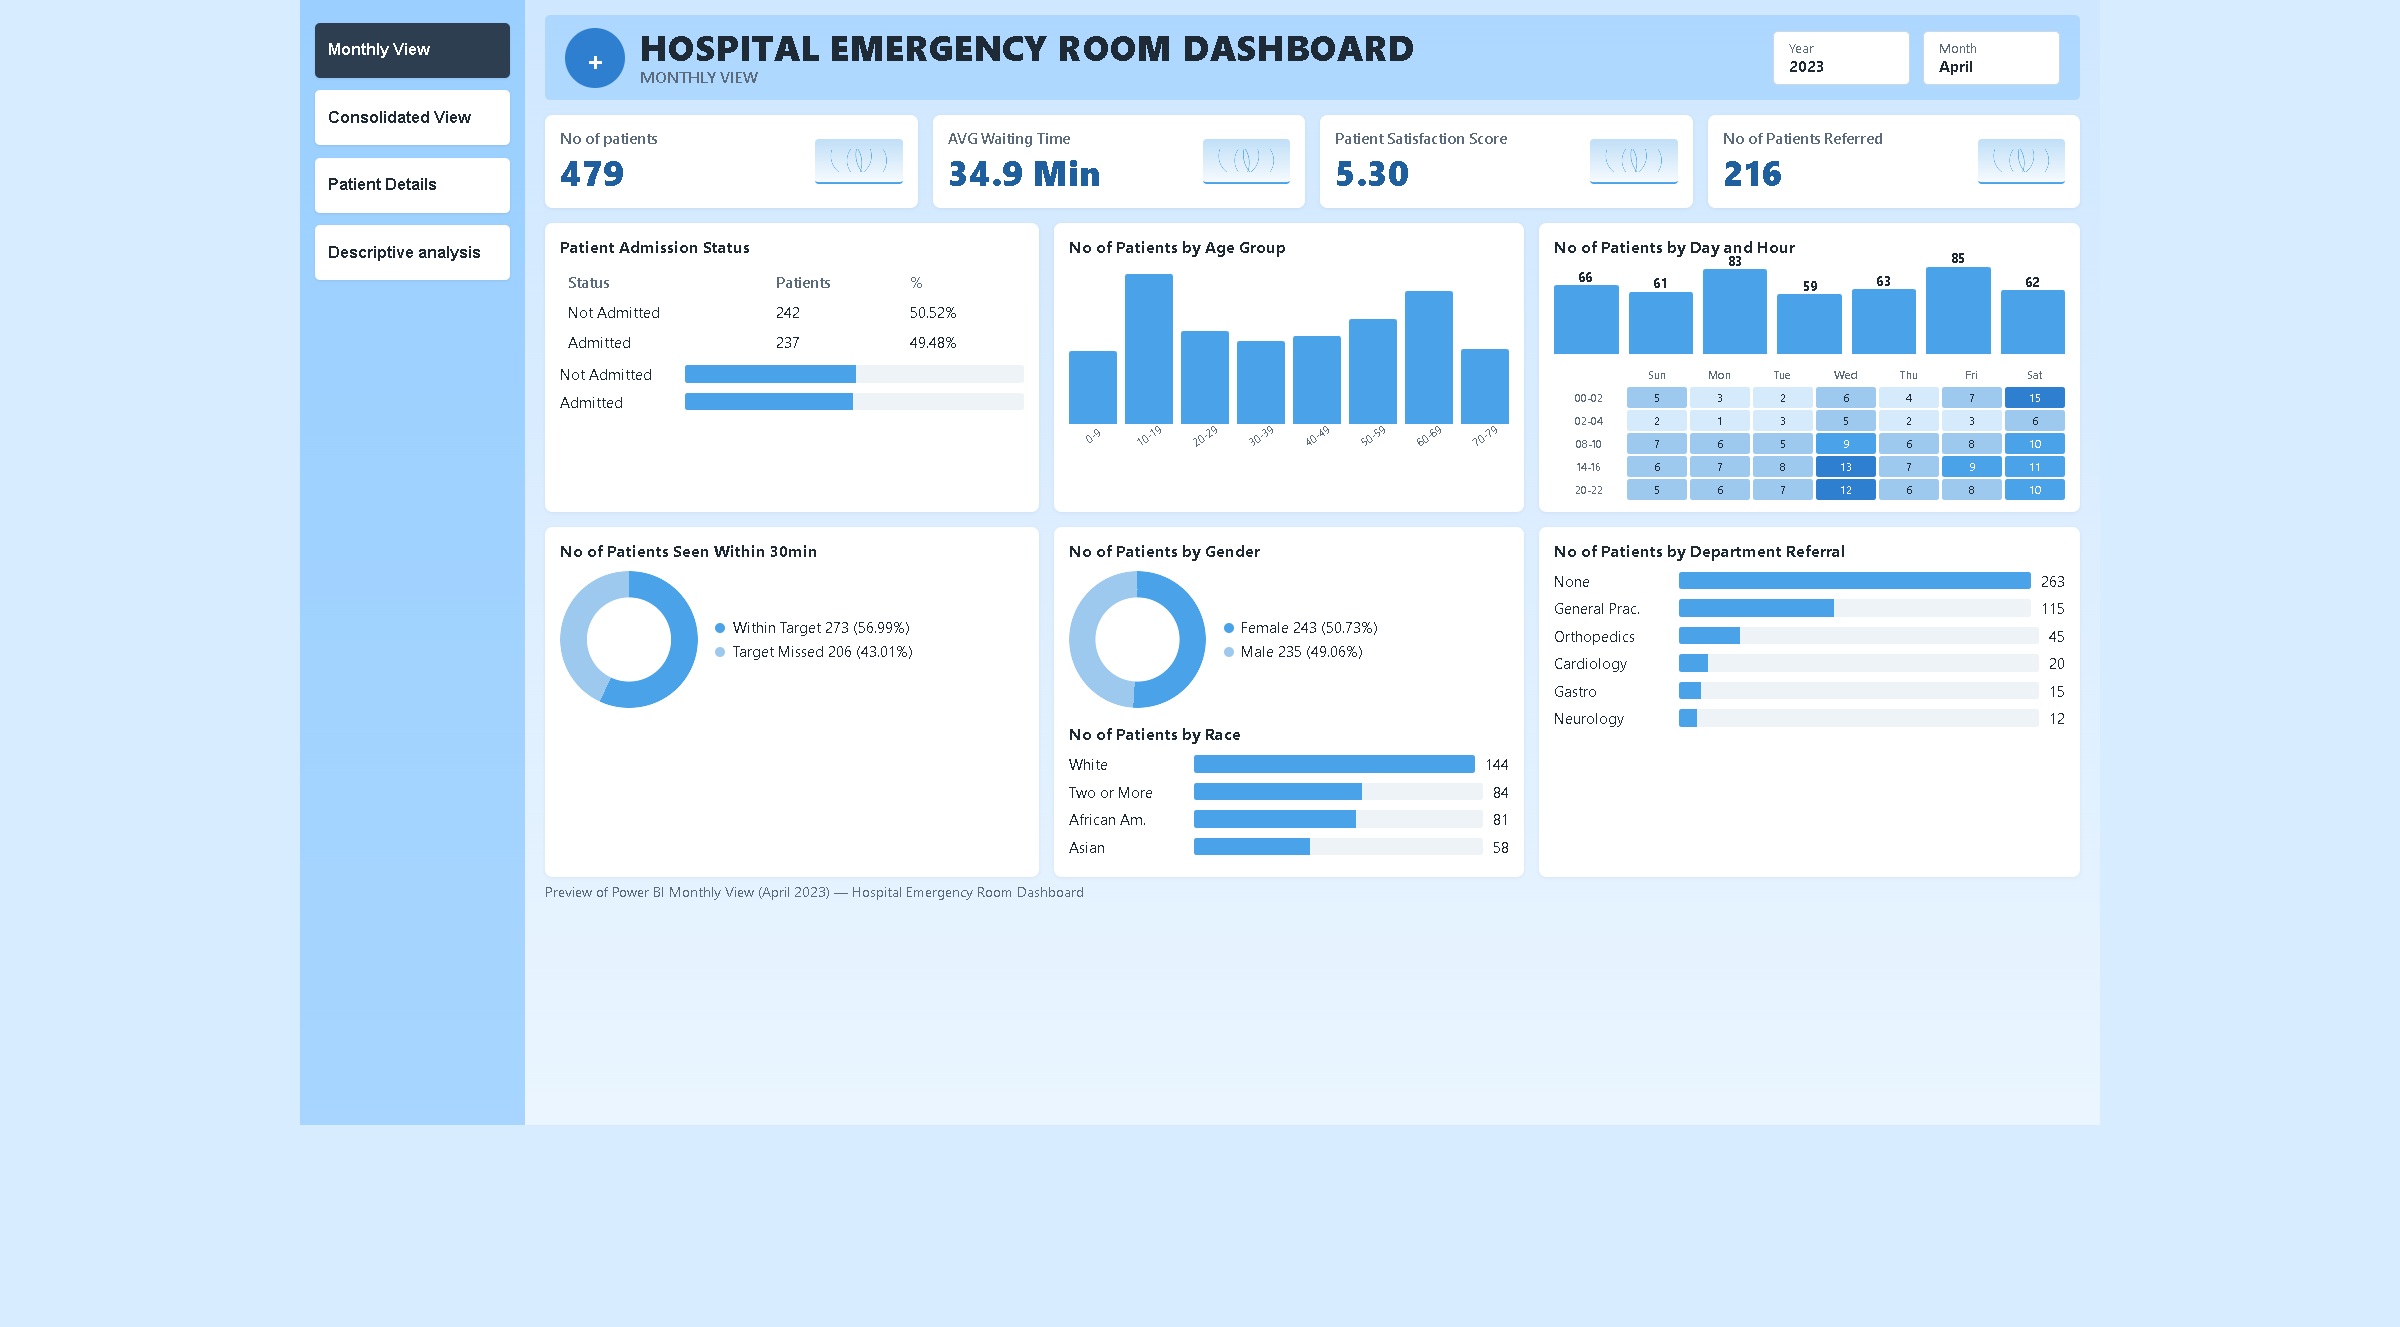

What the dashboard file says about the page in this screenshot:
{"tool":"powerbi","page":{"name":"Monthly View","canvas":[2300,1400],"ordinal":0},"visuals":[{"type":"shape","box":[299.6,173.6,444.6,311.5],"z":0},{"type":"areaChart","fields":{"Category":["Date Table.Date.Variation.Date Hierarchy.Day"],"Y":["Hospital ER_Data.No of Patients"]},"box":[278.2,287.7,466,197.4],"z":1000},{"type":"shape","box":[280,0,2020,155],"z":2000},{"type":"shape","box":[0,0,281.1,1400],"z":3000},{"type":"textbox","box":[299.6,173.6,389.9,99.9],"z":4000},{"type":"textbox","box":[280,95,310,60],"z":5000},{"type":"cardVisual","fields":{"Data":["Hospital ER_Data.No of Patients"]},"box":[256.8,180.7,268.7,190.2],"z":6000},{"type":"slicer","title":"Year","fields":{"Values":["Date Table.Year"]},"box":[1750,26.2,247.3,104.6],"z":7000},{"type":"slicer","title":"Month","fields":{"Values":["Date Table.Month Name"]},"box":[2025.8,26.2,244.9,104.6],"z":8000},{"type":"shape","box":[777.1,180.7,444.6,306.7],"z":9000},{"type":"textbox","box":[280.6,0,1357.7,95.1],"z":10000},{"type":"areaChart","fields":{"Category":["Date Table.Date.Variation.Date Hierarchy.Day"],"Y":["Avg(Hospital ER_Data.Patient Waittime)"]},"box":[756.1,282.9,466,204.5],"z":11000},{"type":"textbox","box":[777.5,180.7,321,109.4],"z":12000},{"type":"shape","box":[1254.6,185.5,487.4,294.8],"z":13000},{"type":"areaChart","fields":{"Category":["Date Table.Date.Variation.Date Hierarchy.Day"],"Y":["Hospital ER_Data.Satisfaction Score"]},"box":[1222,290,528,190],"z":14000},{"type":"textbox","box":[1254,180,444,110],"z":15000},{"type":"cardVisual","fields":{"Data":["Hospital ER_Data.Satisfaction Score"]},"box":[1222.2,178.3,225.9,185.5],"z":16000},{"type":"shape","box":[1774.9,186.4,487.4,306.7],"z":17000},{"type":"shape","box":[297.6,494.8,621.4,176.2],"z":18000},{"type":"pivotTable","title":"Patient Admission Status","fields":{"Rows":["Hospital ER_Data.admission status"],"Values":["Hospital ER_Data.No of Patients1","Hospital ER_Data.No of Patients"]},"box":[294.8,494.1,416.1,180.7],"z":19000},{"type":"areaChart","fields":{"Category":["Date Table.Date.Variation.Date Hierarchy.Day"],"Y":["Hospital ER_Data.No of patients reffered"]},"box":[1750,309.1,520.7,178.3],"z":20000},{"type":"textbox","box":[1773.8,187.8,458.9,102.2],"z":21000},{"type":"cardVisual","fields":{"Data":["Hospital ER_Data.No of patients reffered"]},"box":[1742.9,202.1,202.1,140.3],"z":22000},{"type":"cardVisual","fields":{"Data":["Hospital ER_Data.Avg_Wait_Time"]},"box":[710.9,173.6,354.3,190.2],"z":23000},{"type":"barChart","fields":{"Category":["Hospital ER_Data.admission status"],"Y":["Hospital ER_Data.No of Patients"]},"box":[690.5,523.3,228.6,121.4],"z":24000},{"type":"shape","box":[295.2,679.5,621.4,368],"z":25000},{"type":"clusteredColumnChart","fields":{"Category":["Hospital ER_Data.Age Group"],"Y":["Hospital ER_Data.No of Patients"]},"box":[295.2,679.5,621.4,369],"z":26000},{"type":"shape","box":[293.8,1066.7,618.8,333.3],"z":27000},{"type":"clusteredBarChart","fields":{"Category":["Hospital ER_Data.Department Referral"],"Y":["Hospital ER_Data.No of Patients"]},"box":[293.8,1066.7,643.8,333.3],"z":28000},{"type":"shape","box":[943.8,791.7,600,268.8],"z":29000},{"type":"shape","box":[943.3,505,600,270],"z":30000},{"type":"donutChart","title":"No of Patients Seen Within 30min","fields":{"Category":["Hospital ER_Data.Waittime Status"],"Y":["Hospital ER_Data.No of Patients"]},"box":[950,504.2,570.8,270.8],"z":31000},{"type":"donutChart","title":"No of Patients By Gender","fields":{"Y":["Hospital ER_Data.No of Patients"],"Category":["Hospital ER_Data.Patient Gender"]},"box":[952.1,793.8,568.8,268.8],"z":32000},{"type":"shape","box":[937.5,1072.9,600,327.1],"z":33000},{"type":"clusteredBarChart","title":"No of Patients by Race","fields":{"Category":["Hospital ER_Data.Patient Race"],"Y":["Hospital ER_Data.No of Patients"]},"box":[937.5,1072.9,683.3,327.1],"z":34000},{"type":"shape","box":[1572,508,690,892],"z":35000},{"type":"pivotTable","fields":{"Columns":["Date Table.Day Name"],"Rows":["Hospital ER_Data.Waittime Interval"],"Values":["Hospital ER_Data.No of Patients"]},"box":[1572,794,660,606],"z":36000},{"type":"clusteredColumnChart","title":"No of Patients by Day and Hour","fields":{"Category":["Date Table.Day Name"],"Y":["Hospital ER_Data.No of Patients"]},"box":[1700,510.4,514.6,283.3],"z":37000},{"type":"image","box":[0,0,278,174],"z":38000},{"type":"image","box":[2170,194,118,60],"z":39000},{"type":"image","box":[630,174,114,64],"z":40000},{"type":"image","box":[1662,180,88,66],"z":41000},{"type":"image","box":[1144,180,100,60],"z":42000},{"type":"pageNavigator","box":[0,480.3,278.2,420.9],"z":43000}]}

Visuals, with their boxes on the page's 2300x1400 design canvas (x1, y1, x2, y2). These are canvas units, not pixel positions in the 2400x1327 screenshot, which may show the page scaled, cropped or inside an application window:
shape: 300, 174, 744, 485
areaChart - Date Table.Date.Variation.Date Hierarchy.Day x Hospital ER_Data.No of Patients: 278, 288, 744, 485
shape: 280, 0, 2300, 155
shape: 0, 0, 281, 1400
textbox: 300, 174, 690, 274
textbox: 280, 95, 590, 155
cardVisual - Hospital ER_Data.No of Patients: 257, 181, 526, 371
"Year" slicer: 1750, 26, 1997, 131
"Month" slicer: 2026, 26, 2271, 131
shape: 777, 181, 1222, 487
textbox: 281, 0, 1638, 95
areaChart - Date Table.Date.Variation.Date Hierarchy.Day x Avg(Hospital ER_Data.Patient Waittime): 756, 283, 1222, 487
textbox: 778, 181, 1098, 290
shape: 1255, 186, 1742, 480
areaChart - Date Table.Date.Variation.Date Hierarchy.Day x Hospital ER_Data.Satisfaction Score: 1222, 290, 1750, 480
textbox: 1254, 180, 1698, 290
cardVisual - Hospital ER_Data.Satisfaction Score: 1222, 178, 1448, 364
shape: 1775, 186, 2262, 493
shape: 298, 495, 919, 671
"Patient Admission Status" pivotTable: 295, 494, 711, 675
areaChart - Date Table.Date.Variation.Date Hierarchy.Day x Hospital ER_Data.No of patients reffered: 1750, 309, 2271, 487
textbox: 1774, 188, 2233, 290
cardVisual - Hospital ER_Data.No of patients reffered: 1743, 202, 1945, 342
cardVisual - Hospital ER_Data.Avg_Wait_Time: 711, 174, 1065, 364
barChart - Hospital ER_Data.admission status x Hospital ER_Data.No of Patients: 690, 523, 919, 645
shape: 295, 680, 917, 1048
clusteredColumnChart - Hospital ER_Data.Age Group x Hospital ER_Data.No of Patients: 295, 680, 917, 1048
shape: 294, 1067, 913, 1400
clusteredBarChart - Hospital ER_Data.Department Referral x Hospital ER_Data.No of Patients: 294, 1067, 938, 1400
shape: 944, 792, 1544, 1060
shape: 943, 505, 1543, 775
"No of Patients Seen Within 30min" donutChart: 950, 504, 1521, 775
"No of Patients By Gender" donutChart: 952, 794, 1521, 1063
shape: 938, 1073, 1538, 1400
"No of Patients by Race" clusteredBarChart: 938, 1073, 1621, 1400
shape: 1572, 508, 2262, 1400
pivotTable - Date Table.Day Name x Hospital ER_Data.Waittime Interval: 1572, 794, 2232, 1400
"No of Patients by Day and Hour" clusteredColumnChart: 1700, 510, 2215, 794
image: 0, 0, 278, 174
image: 2170, 194, 2288, 254
image: 630, 174, 744, 238
image: 1662, 180, 1750, 246
image: 1144, 180, 1244, 240
pageNavigator: 0, 480, 278, 901
